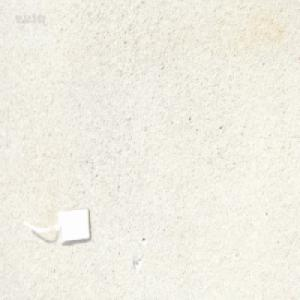LuggageTag: (23, 204, 91, 246)
